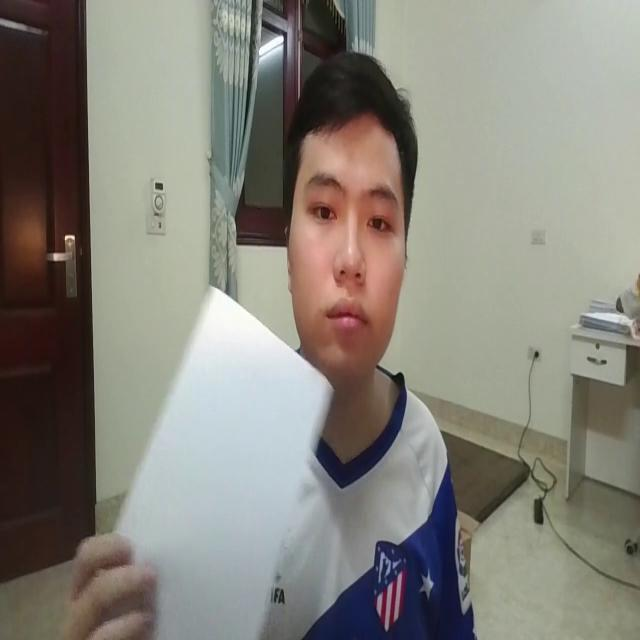book: (85, 264, 337, 640)
student: (201, 42, 487, 640)
